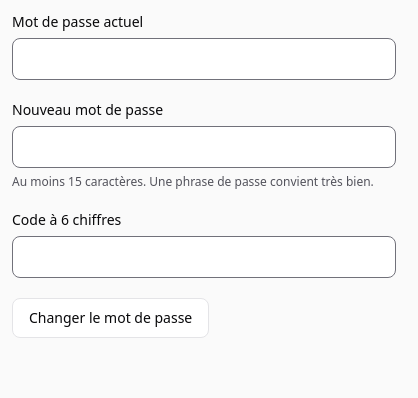
Scenario: admin forms › PasswordForm › reports {"status":"done","revoked":0}
Type "current password" into the password field labelled "Mot de passe actuel" at (204, 59), box x1=12 y1=38 x2=396 y2=80
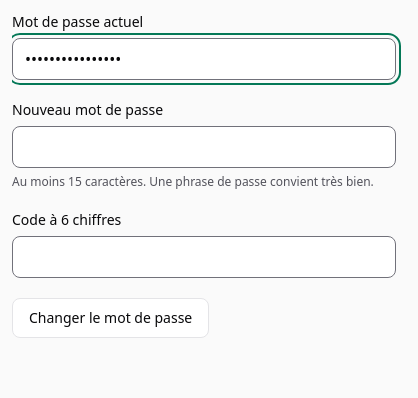
Type "a new long passphrase" into the password field labelled "Nouveau mot de passe" at (204, 147), box x1=12 y1=126 x2=396 y2=168
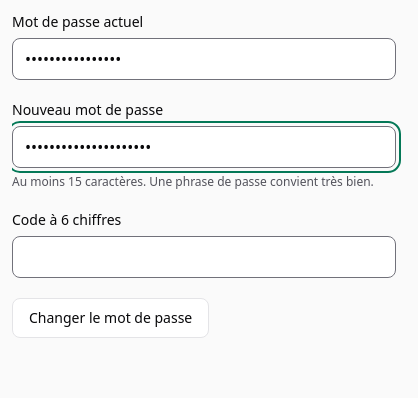
Type "123456" into the field labelled "Code à 6 chiffres" at (204, 257), box x1=12 y1=236 x2=396 y2=278
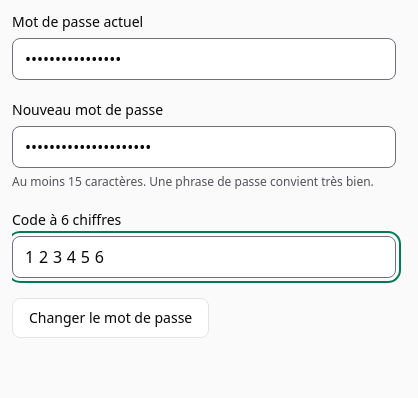
Click the button "Changer le mot de passe" at (111, 318), box x1=12 y1=298 x2=209 y2=338
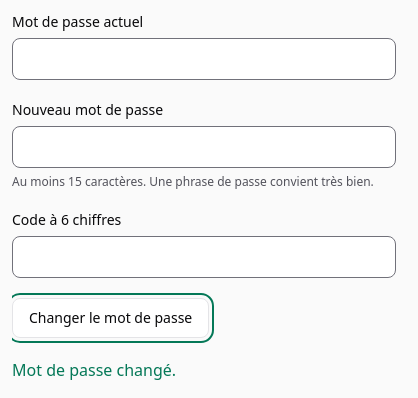
Result: the message reads "Mot de passe changé." at x1=12 y1=359 x2=176 y2=381
